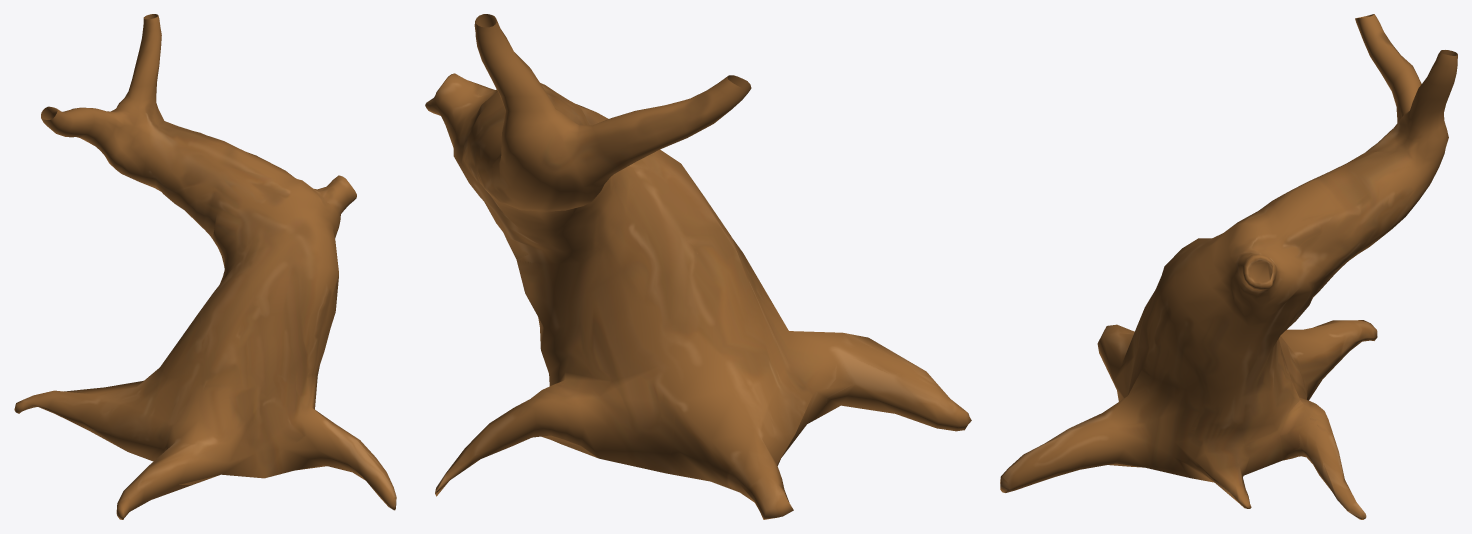
File: cherryblossomtreebranch.fbx
The picture shows the model from 3 angles, left to right: view 1: azimuth 30°, elevation 25°; view 2: azimuth 150°, elevation 25°; view 3: azimuth 270°, elevation 25°; orthographic projection. The views are drawn at different scales.
Visible parts, largest first — view 1: Trunk; view 2: Trunk; view 3: Trunk.
Boxes of the visible parts, x1,y1,x2,y2 form: Trunk: [14, 14, 396, 519]; Trunk: [425, 14, 971, 519]; Trunk: [1000, 14, 1457, 519].
Size of the model in its own units: 1.39 by 1.64 by 1.59.
